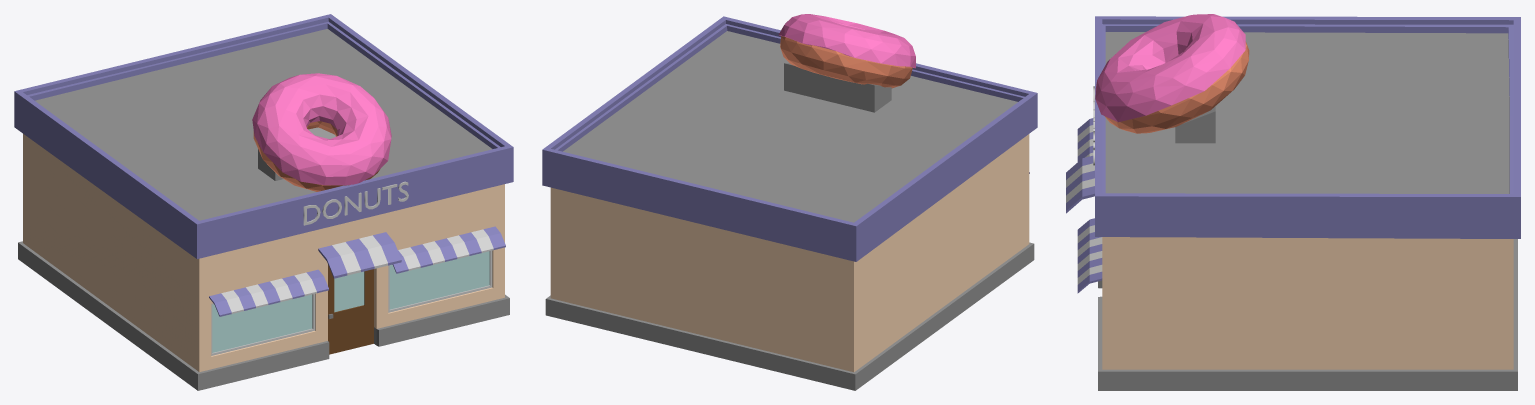
The model's file is Donuts_01.fbx.
3 views of the same model, side by side, from view 1: azimuth 30°, elevation 25°; view 2: azimuth 150°, elevation 25°; view 3: azimuth 270°, elevation 25° (orthographic). The views are drawn at different scales.
Visible parts, largest first — view 1: Donuts_01; view 2: Donuts_01; view 3: Donuts_01.
Boxes of the visible parts, bbox=[...] form: Donuts_01: bbox=[14, 14, 513, 390]; Donuts_01: bbox=[542, 14, 1037, 390]; Donuts_01: bbox=[1066, 14, 1520, 390].
Size of the model in its own units: 706 by 506 by 754.
